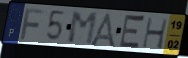5: (44, 10, 66, 43)
A: (88, 12, 117, 50)
E: (117, 13, 147, 52)
F: (19, 7, 46, 42)
H: (141, 16, 170, 51)
M: (67, 11, 99, 47)
